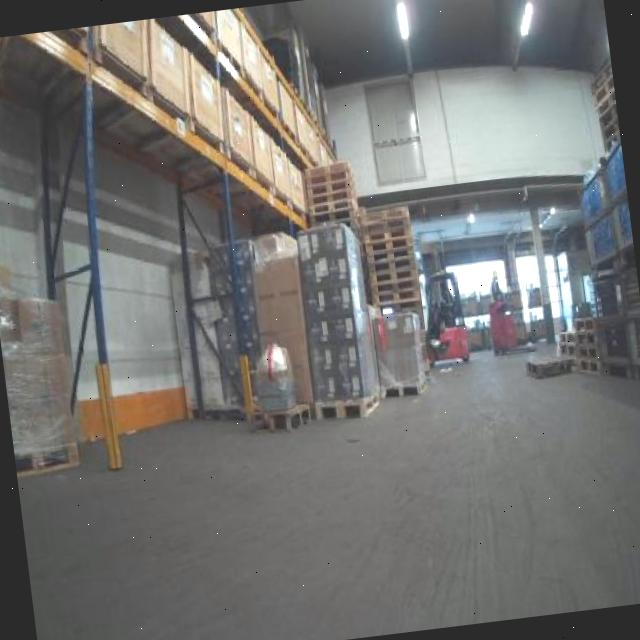pallet: (13, 433, 88, 482), (313, 381, 385, 422), (354, 239, 428, 264), (296, 194, 362, 222), (297, 188, 362, 215), (297, 156, 363, 182), (369, 283, 430, 311), (351, 214, 422, 238), (357, 220, 419, 247), (354, 200, 418, 226), (375, 376, 437, 400), (364, 272, 425, 296), (299, 169, 358, 193), (356, 251, 423, 272), (296, 177, 359, 198), (360, 264, 424, 284), (572, 352, 606, 377), (571, 342, 610, 363), (569, 314, 603, 331)
